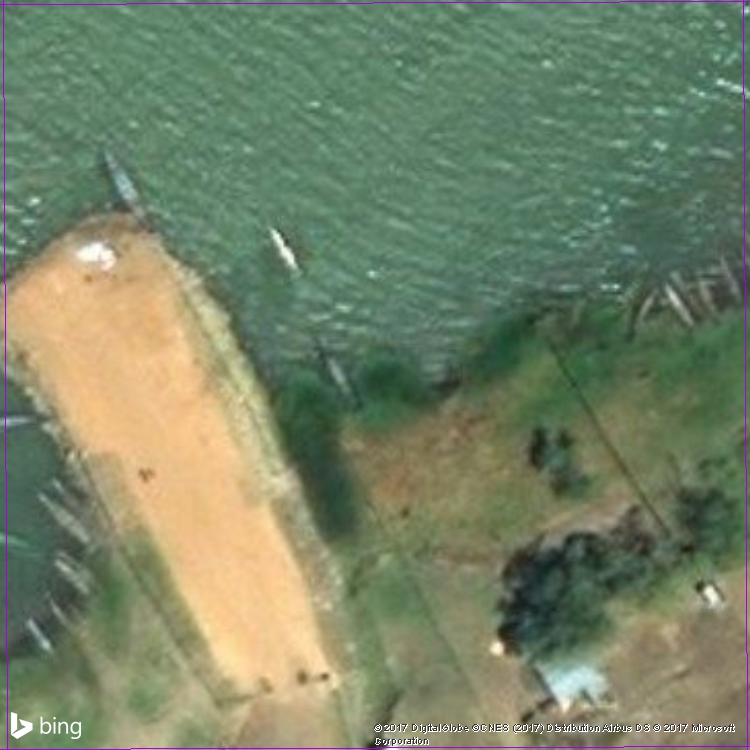boat: (87, 132, 160, 231), (306, 334, 368, 426), (29, 485, 100, 553), (258, 216, 312, 279), (44, 468, 97, 528), (45, 557, 96, 602), (668, 266, 705, 321), (661, 281, 698, 333), (53, 546, 102, 585), (1, 408, 52, 445), (42, 586, 78, 638), (17, 614, 55, 663), (686, 273, 723, 321), (716, 252, 746, 305), (635, 282, 660, 333), (1, 526, 35, 560)
